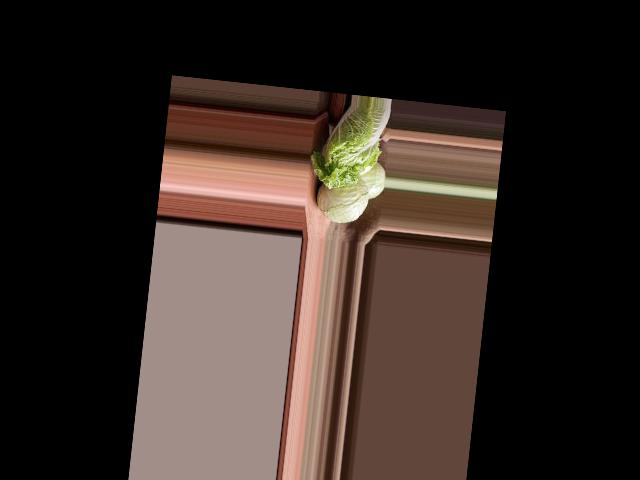lettuce: (303, 106, 390, 229)
